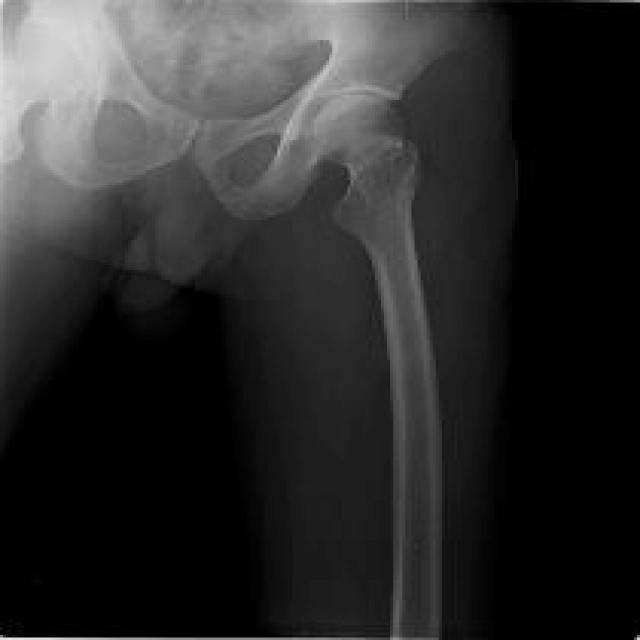normal: (194, 0, 491, 638), (0, 1, 192, 189)
